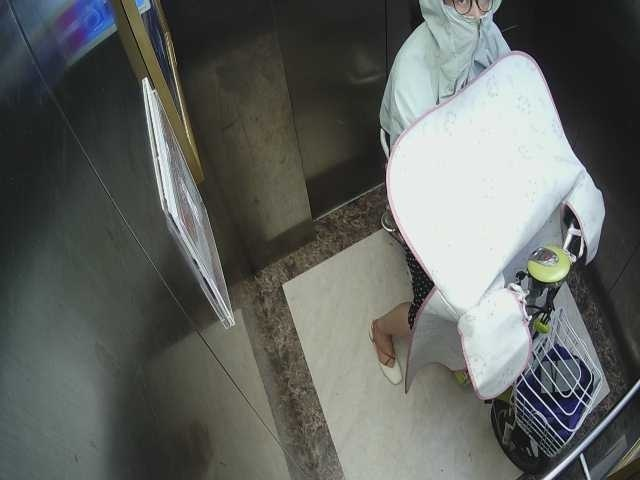emotor: (477, 228, 620, 470)
